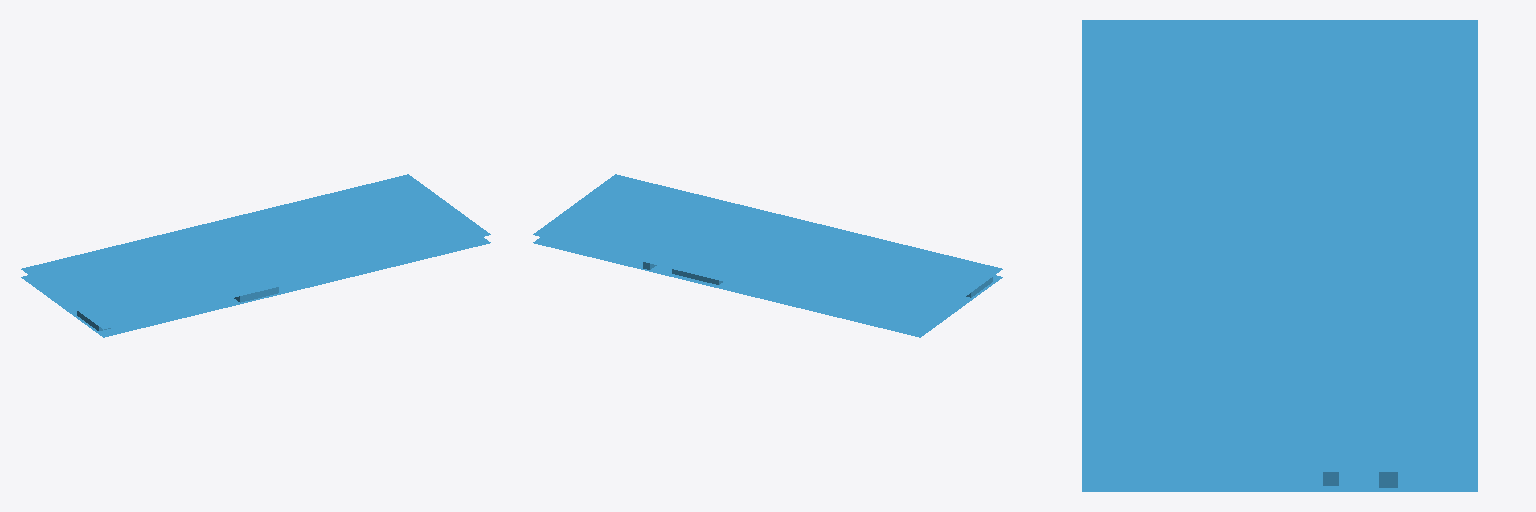
URDF robot description (jinri_1f):
<?xml version="1.0"?>
<!-- Generated by tools/make_jinri.py. Fixed-base static environment (KAIST Jinri-gwan 1F). -->
<robot name="jinri_1f">
  <link name="world"/>
  <joint name="world_to_jinri" type="fixed">
    <parent link="world"/>
    <child link="jinri"/>
    <origin xyz="0 0 0" rpy="0 0 0"/>
  </joint>
  <link name="jinri">
    <inertial>
      <mass value="1000"/>
      <inertia ixx="1" ixy="0" ixz="0" iyy="1" iyz="0" izz="1"/>
    </inertial>
    <visual>
      <geometry>
        <mesh filename="visual.obj"/>
      </geometry>
    </visual>
    <collision>
      <geometry>
        <mesh filename="collision.obj"/>
      </geometry>
    </collision>
  </link>
  <!-- raisim segfaults on a 0-DOF articulated system: one massless dummy joint (see ../hospital/README.md) -->
  <joint name="jinri_dummy_joint" type="revolute">
    <parent link="jinri"/>
    <child link="jinri_dummy_link"/>
    <origin xyz="0 0 0" rpy="0 0 0"/>
    <axis xyz="0 0 1"/>
    <dynamics damping="1.0" friction="0.0"/>
  </joint>
  <link name="jinri_dummy_link">
    <inertial>
      <mass value="0.001"/>
      <inertia ixx="1e-6" ixy="0" ixz="0" iyy="1e-6" iyz="0" izz="1e-6"/>
    </inertial>
  </link>
</robot>

--- Facts derived from the render (not from the file) ---
Views: 3 orthographic renders of the robot side by side, from view 1: azimuth 30°, elevation 25°; view 2: azimuth 150°, elevation 25°; view 3: azimuth 270°, elevation 25°.
Model jinri_1f with 3 links and 2 joints (1 revolute, 1 fixed), rooted at world, posed all joints at 0.
Links seen in each view (by area): view 1: jinri; view 2: jinri; view 3: jinri.
Link boxes in pixels (bbox=[...]): jinri: bbox=[21, 174, 490, 337]; jinri: bbox=[533, 174, 1002, 337]; jinri: bbox=[1082, 20, 1477, 491].
Size in the robot's own frame: 134 by 49.5 by 2.7 metres.
1 mesh visuals loaded from 1 distinct referenced files (1 OBJ).
